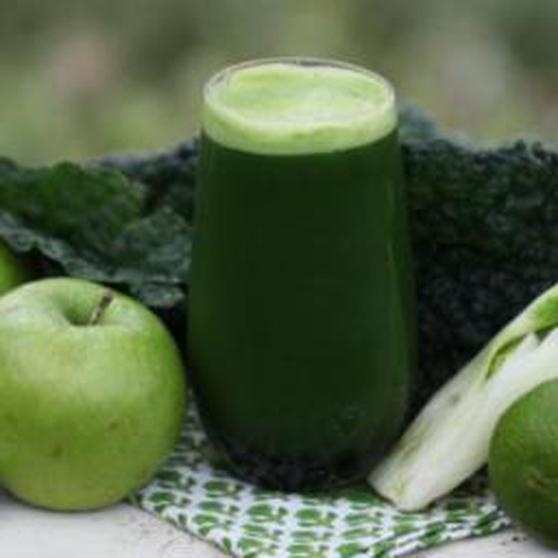apple: (2, 271, 191, 516)
